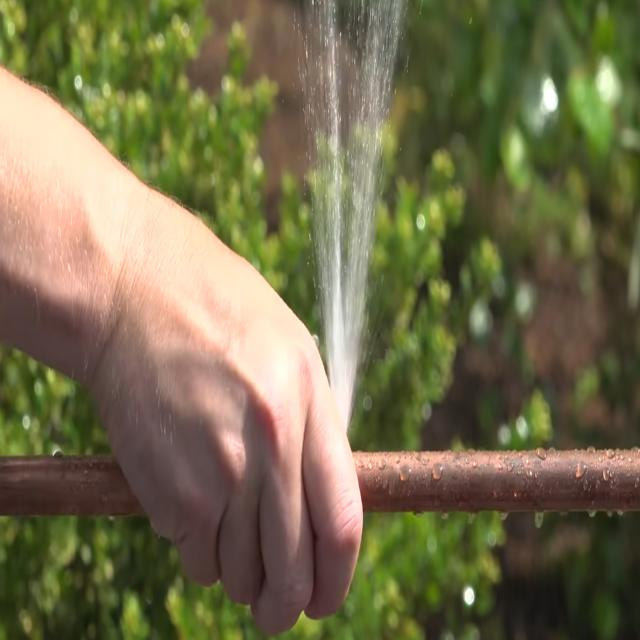leak: (304, 0, 404, 428)
